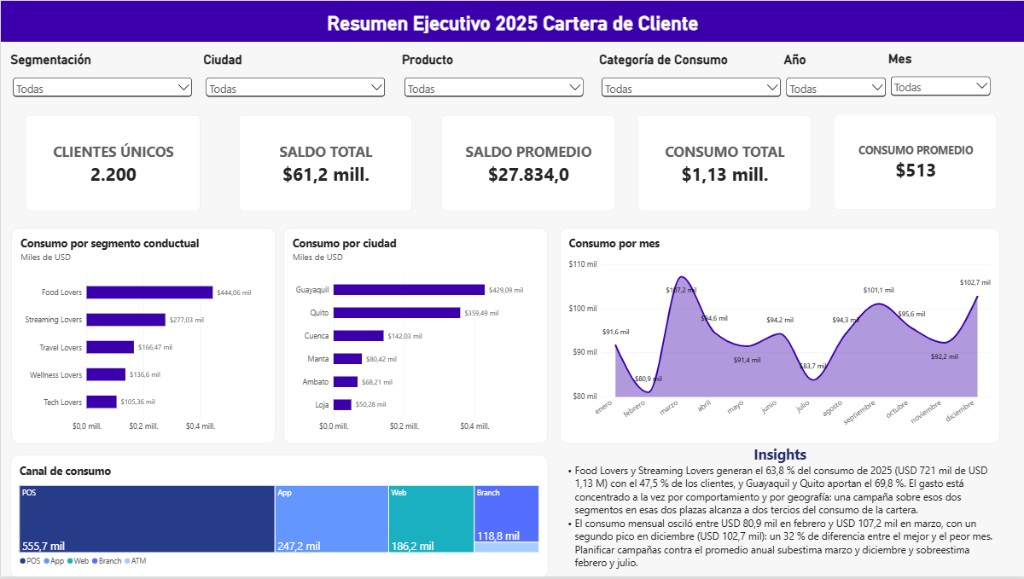

The page's visual inventory and layout, read from the dashboard file:
{"tool":"powerbi","page":{"name":"Resumen Ejecutivo 2025","canvas":[1920,1080],"ordinal":0},"visuals":[{"type":"cardVisual","fields":{"Data":["Medidas.Clientes Únicos"]},"box":[40,208,340,192],"z":0},{"type":"cardVisual","title":"CONSUMO TOTAL","fields":{"Data":["Medidas.Saldo Total"]},"box":[440,207.5,337,192.5],"z":1000},{"type":"cardVisual","title":"CONSUMO TOTAL","fields":{"Data":["Medidas.Saldo Promedio por Cliente"]},"box":[820,207.5,337,192.5],"z":2000},{"type":"cardVisual","title":"CONSUMO TOTAL","fields":{"Data":["Medidas.Consumo Total"]},"box":[1187.5,207.5,337,192.5],"z":3000},{"type":"slicer","title":"Segmentación","fields":{"Values":["Criterios.Segmento"]},"box":[17.5,95,345,87.5],"z":4000},{"type":"textbox","title":"Resumen Ejecutivo 2025 Cartera de Cliente ","box":[0,0,1920,95],"z":5000},{"type":"slicer","title":"Ciudad","fields":{"Values":["Vista_Cliente.ciudad"]},"box":[380,95,345,87.5],"z":6000},{"type":"slicer","title":"Producto","fields":{"Values":["Base_Limpia.producto"]},"box":[752.5,95,345,87.5],"z":7000},{"type":"slicer","title":"Categoría de Consumo","fields":{"Values":["Base_Limpia.categoria_consumo"]},"box":[1122.5,95,345,87.5],"z":8000},{"type":"cardVisual","title":"CONSUMO TOTAL","fields":{"Data":["Medidas.Consumo Promedio por Cliente"]},"box":[1555,205,317.5,192.5],"z":9000},{"type":"clusteredBarChart","title":"Consumo por segmento conductual","fields":{"Category":["Segmentacion_cliente.segmento_cliente"],"Y":["Medidas.Consumo Total"]},"box":[20,425,495,405],"z":10000},{"type":"clusteredBarChart","title":"Consumo por ciudad","fields":{"Category":["Base_Limpia.ciudad"],"Y":["Medidas.Consumo Total"]},"box":[530,425,495,405],"z":11000},{"type":"lineChart","title":"Consumo por mes","fields":{"Category":["Base_Limpia.fecha_movimiento.Variación.Jerarquía de fechas.Mes"],"Y":["Medidas.Consumo Total"]},"box":[1047.5,425,825,405],"z":12000},{"type":"treemap","title":"Canal de consumo","fields":{"Group":["Base_Limpia.canal"],"Values":["Sum(Base_Limpia.monto_consumo)"]},"box":[18,852,1008,230],"z":14000},{"type":"textbox","box":[1048,832,826,248],"z":15000},{"type":"slicer","title":"Año","fields":{"Values":["Base_Limpia.fecha_movimiento.Variación.Jerarquía de fechas.Año"]},"box":[1468,96,196,88],"z":15001},{"type":"slicer","title":"Mes","fields":{"Values":["Base_Limpia.fecha_movimiento.Variación.Jerarquía de fechas.Mes"]},"box":[1664,94,196,88],"z":15002}]}

Visuals, with their boxes in screenshot pixels (x1, y1, x2, y2), scaled from the page's 1920x1080 canvas onto the 1024x579 screenshot:
cardVisual - Medidas.Clientes Únicos: (left=21, top=112, right=203, bottom=214)
"CONSUMO TOTAL" cardVisual: (left=235, top=111, right=414, bottom=214)
"CONSUMO TOTAL" cardVisual: (left=437, top=111, right=617, bottom=214)
"CONSUMO TOTAL" cardVisual: (left=633, top=111, right=813, bottom=214)
"Segmentación" slicer: (left=9, top=51, right=193, bottom=98)
"Resumen Ejecutivo 2025 Cartera de Cliente " textbox: (left=0, top=0, right=1023, bottom=51)
"Ciudad" slicer: (left=203, top=51, right=387, bottom=98)
"Producto" slicer: (left=401, top=51, right=585, bottom=98)
"Categoría de Consumo" slicer: (left=599, top=51, right=783, bottom=98)
"CONSUMO TOTAL" cardVisual: (left=829, top=110, right=999, bottom=213)
"Consumo por segmento conductual" clusteredBarChart: (left=11, top=228, right=275, bottom=445)
"Consumo por ciudad" clusteredBarChart: (left=283, top=228, right=547, bottom=445)
"Consumo por mes" lineChart: (left=559, top=228, right=999, bottom=445)
"Canal de consumo" treemap: (left=10, top=457, right=547, bottom=578)
textbox: (left=559, top=446, right=999, bottom=578)
"Año" slicer: (left=783, top=51, right=887, bottom=99)
"Mes" slicer: (left=887, top=50, right=992, bottom=98)
